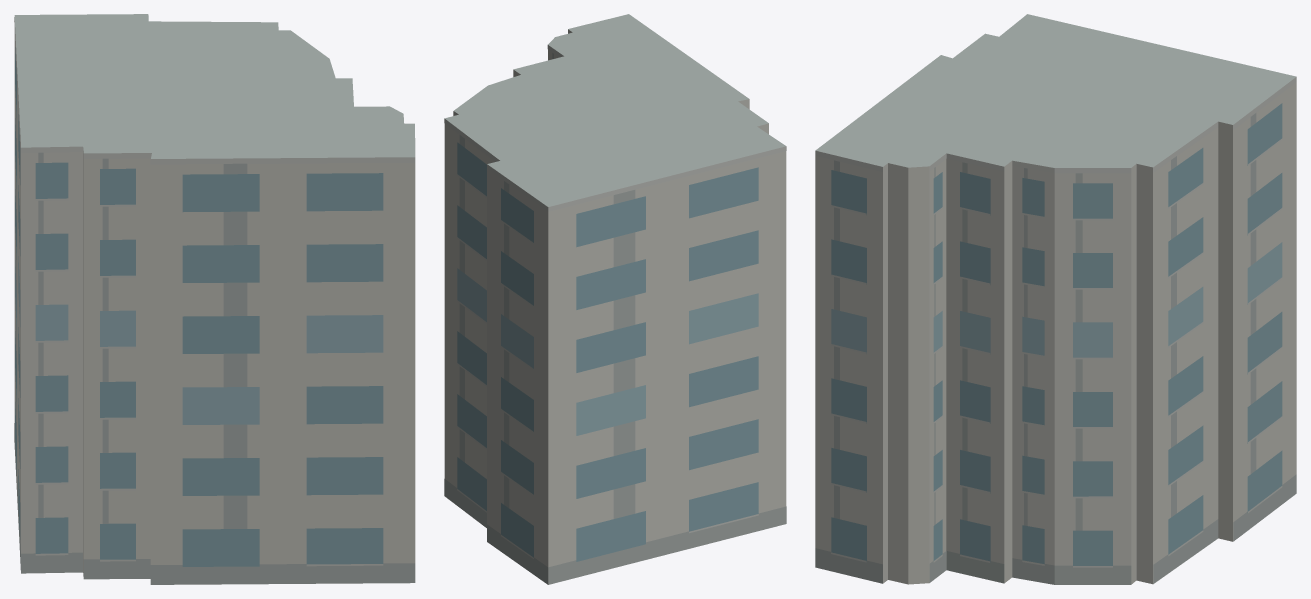
File: survey-upis-32505274.glb
3 views of the same model, side by side, from view 1: azimuth 30°, elevation 25°; view 2: azimuth 150°, elevation 25°; view 3: azimuth 270°, elevation 25° (orthographic). The views are drawn at different scales.
Visible parts, largest first — view 1: survey-upis-32505274.tmp; view 2: survey-upis-32505274.tmp; view 3: survey-upis-32505274.tmp.
Part boxes in pixels (x1,y1,x2,y2): survey-upis-32505274.tmp: (14,14,415,584); survey-upis-32505274.tmp: (444,14,786,584); survey-upis-32505274.tmp: (815,14,1296,584).
Bounding box in the file's own units: 15.39 × 19.4 × 20.31.
